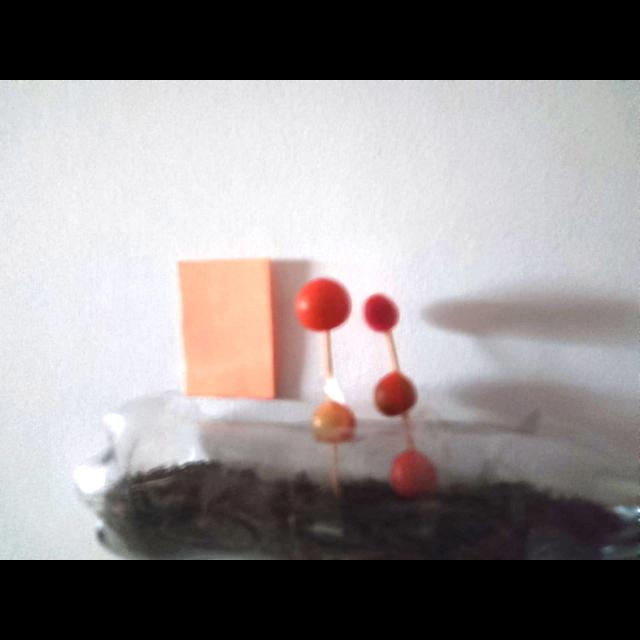card: (179, 259, 276, 399), (179, 259, 275, 398)
fruit_maturation: (390, 449, 437, 497), (313, 400, 356, 444)
fully_grown: (296, 278, 351, 331), (374, 371, 417, 416), (363, 294, 399, 332)
